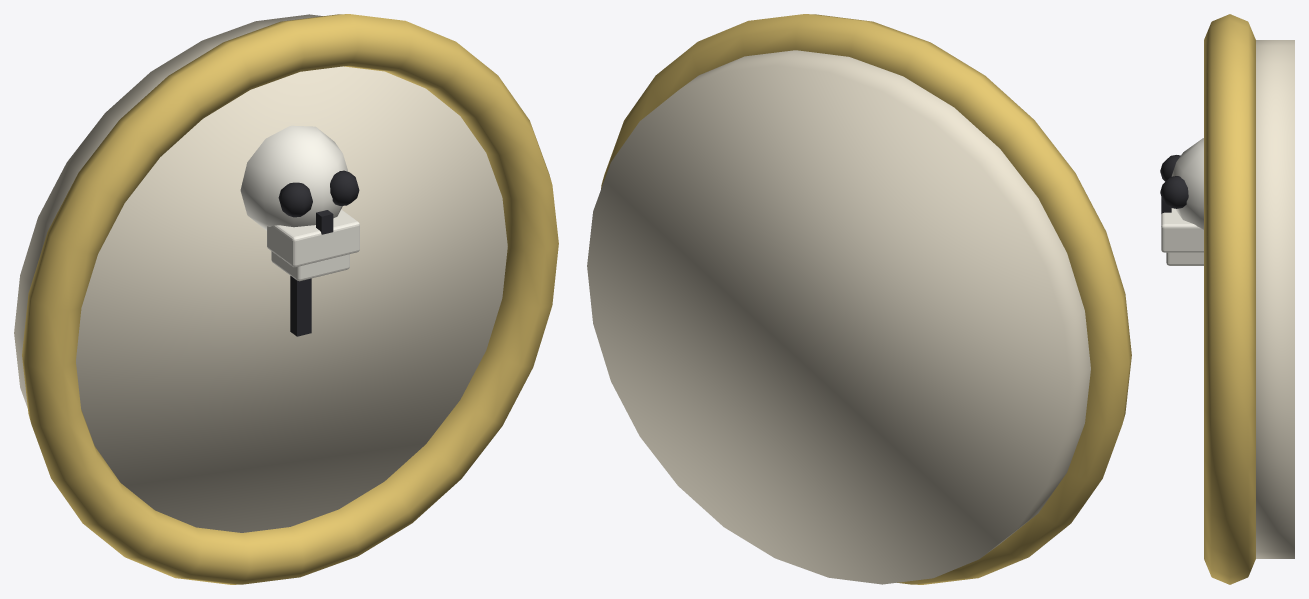
File: clock_wall_skull.glb
The picture shows the model from 3 angles, left to right: view 1: azimuth 30°, elevation 25°; view 2: azimuth 150°, elevation 25°; view 3: azimuth 270°, elevation 25°; orthographic projection. The views are drawn at different scales.
Visible parts, largest first — view 1: GD_clock_wall_skull__m0, GD_clock_wall_skull__m1, GD_clock_wall_skull__m2, GD_clock_wall_skull__m3; view 2: GD_clock_wall_skull__m0, GD_clock_wall_skull__m1; view 3: GD_clock_wall_skull__m1, GD_clock_wall_skull__m0, GD_clock_wall_skull__m2, GD_clock_wall_skull__m3.
Part boxes in pixels (x1=…): GD_clock_wall_skull__m0: x1=14, y1=14, x2=507, y2=532; GD_clock_wall_skull__m1: x1=22, y1=14, x2=558, y2=584; GD_clock_wall_skull__m2: x1=240, y1=125, x2=359, y2=281; GD_clock_wall_skull__m3: x1=278, y1=170, x2=359, y2=336; GD_clock_wall_skull__m0: x1=587, y1=50, x2=1090, y2=584; GD_clock_wall_skull__m1: x1=601, y1=14, x2=1131, y2=584; GD_clock_wall_skull__m1: x1=1204, y1=14, x2=1255, y2=584; GD_clock_wall_skull__m0: x1=1256, y1=40, x2=1294, y2=558; GD_clock_wall_skull__m2: x1=1161, y1=138, x2=1203, y2=265; GD_clock_wall_skull__m3: x1=1160, y1=155, x2=1188, y2=213.
Bounding box in the file's own units: 0.44 × 0.44 × 0.1038.
